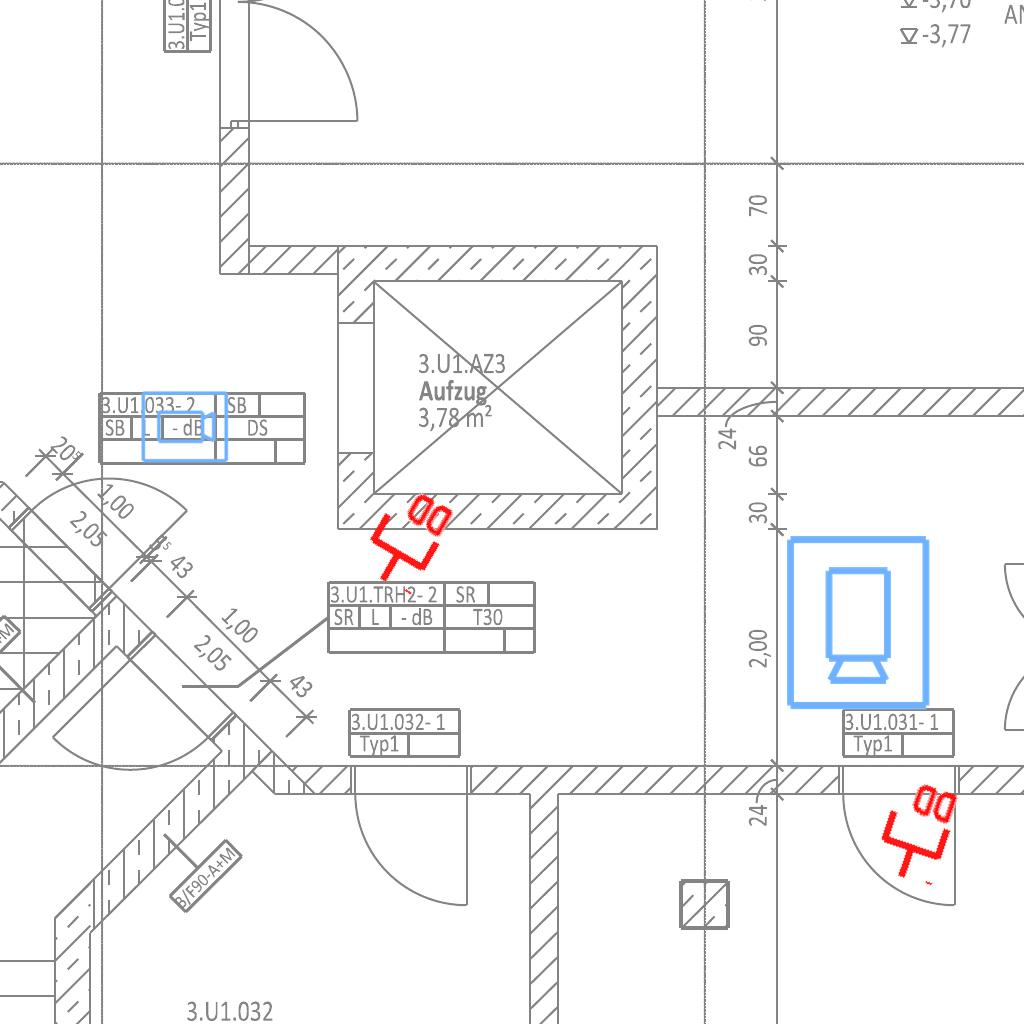Datenanschluss_zweifach: (349, 475, 462, 600), (866, 770, 965, 891)
KFO_Kamera_mit_Festobjektiv: (780, 531, 934, 713), (139, 389, 230, 466)
